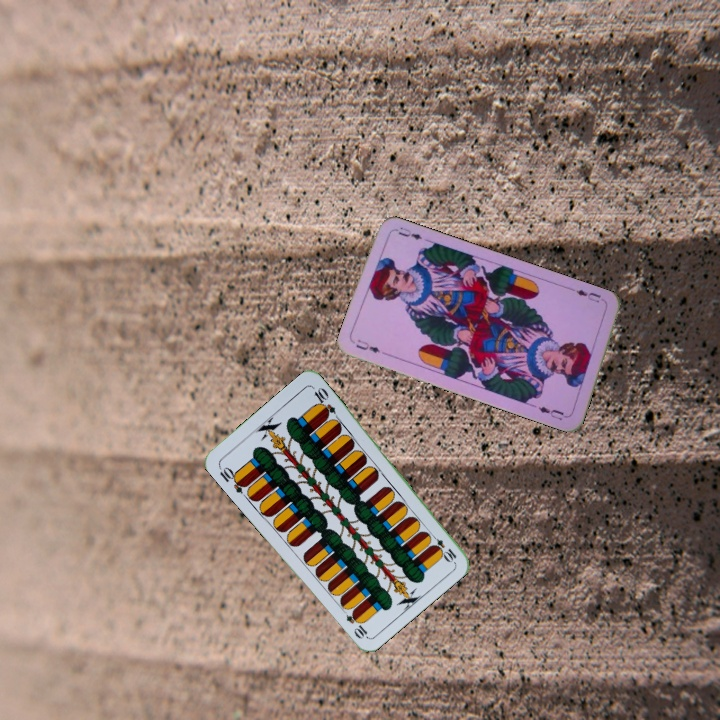E10: (215, 462, 249, 496), (426, 530, 459, 564)
EU: (569, 285, 608, 306), (352, 335, 382, 356)
